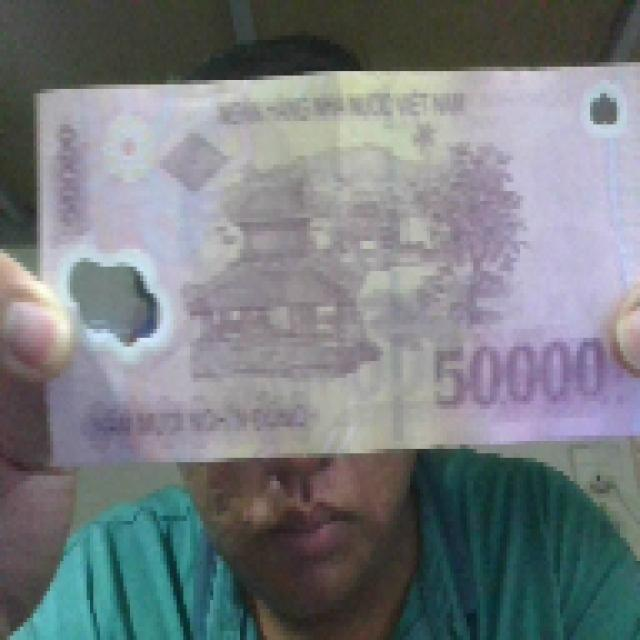50 000 VND: (26, 58, 636, 466)
